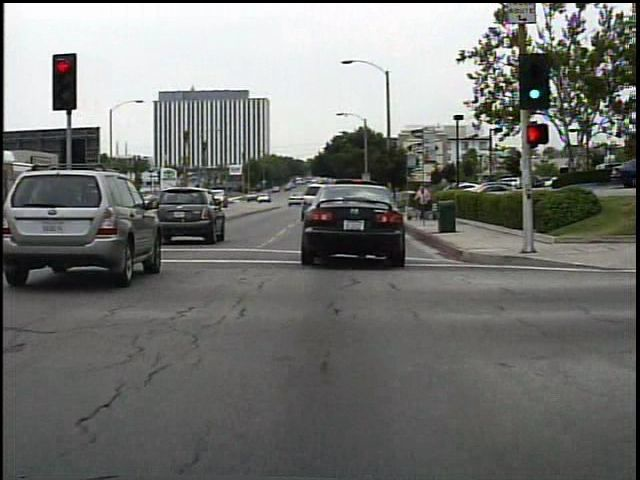person: (412, 180, 433, 225)
